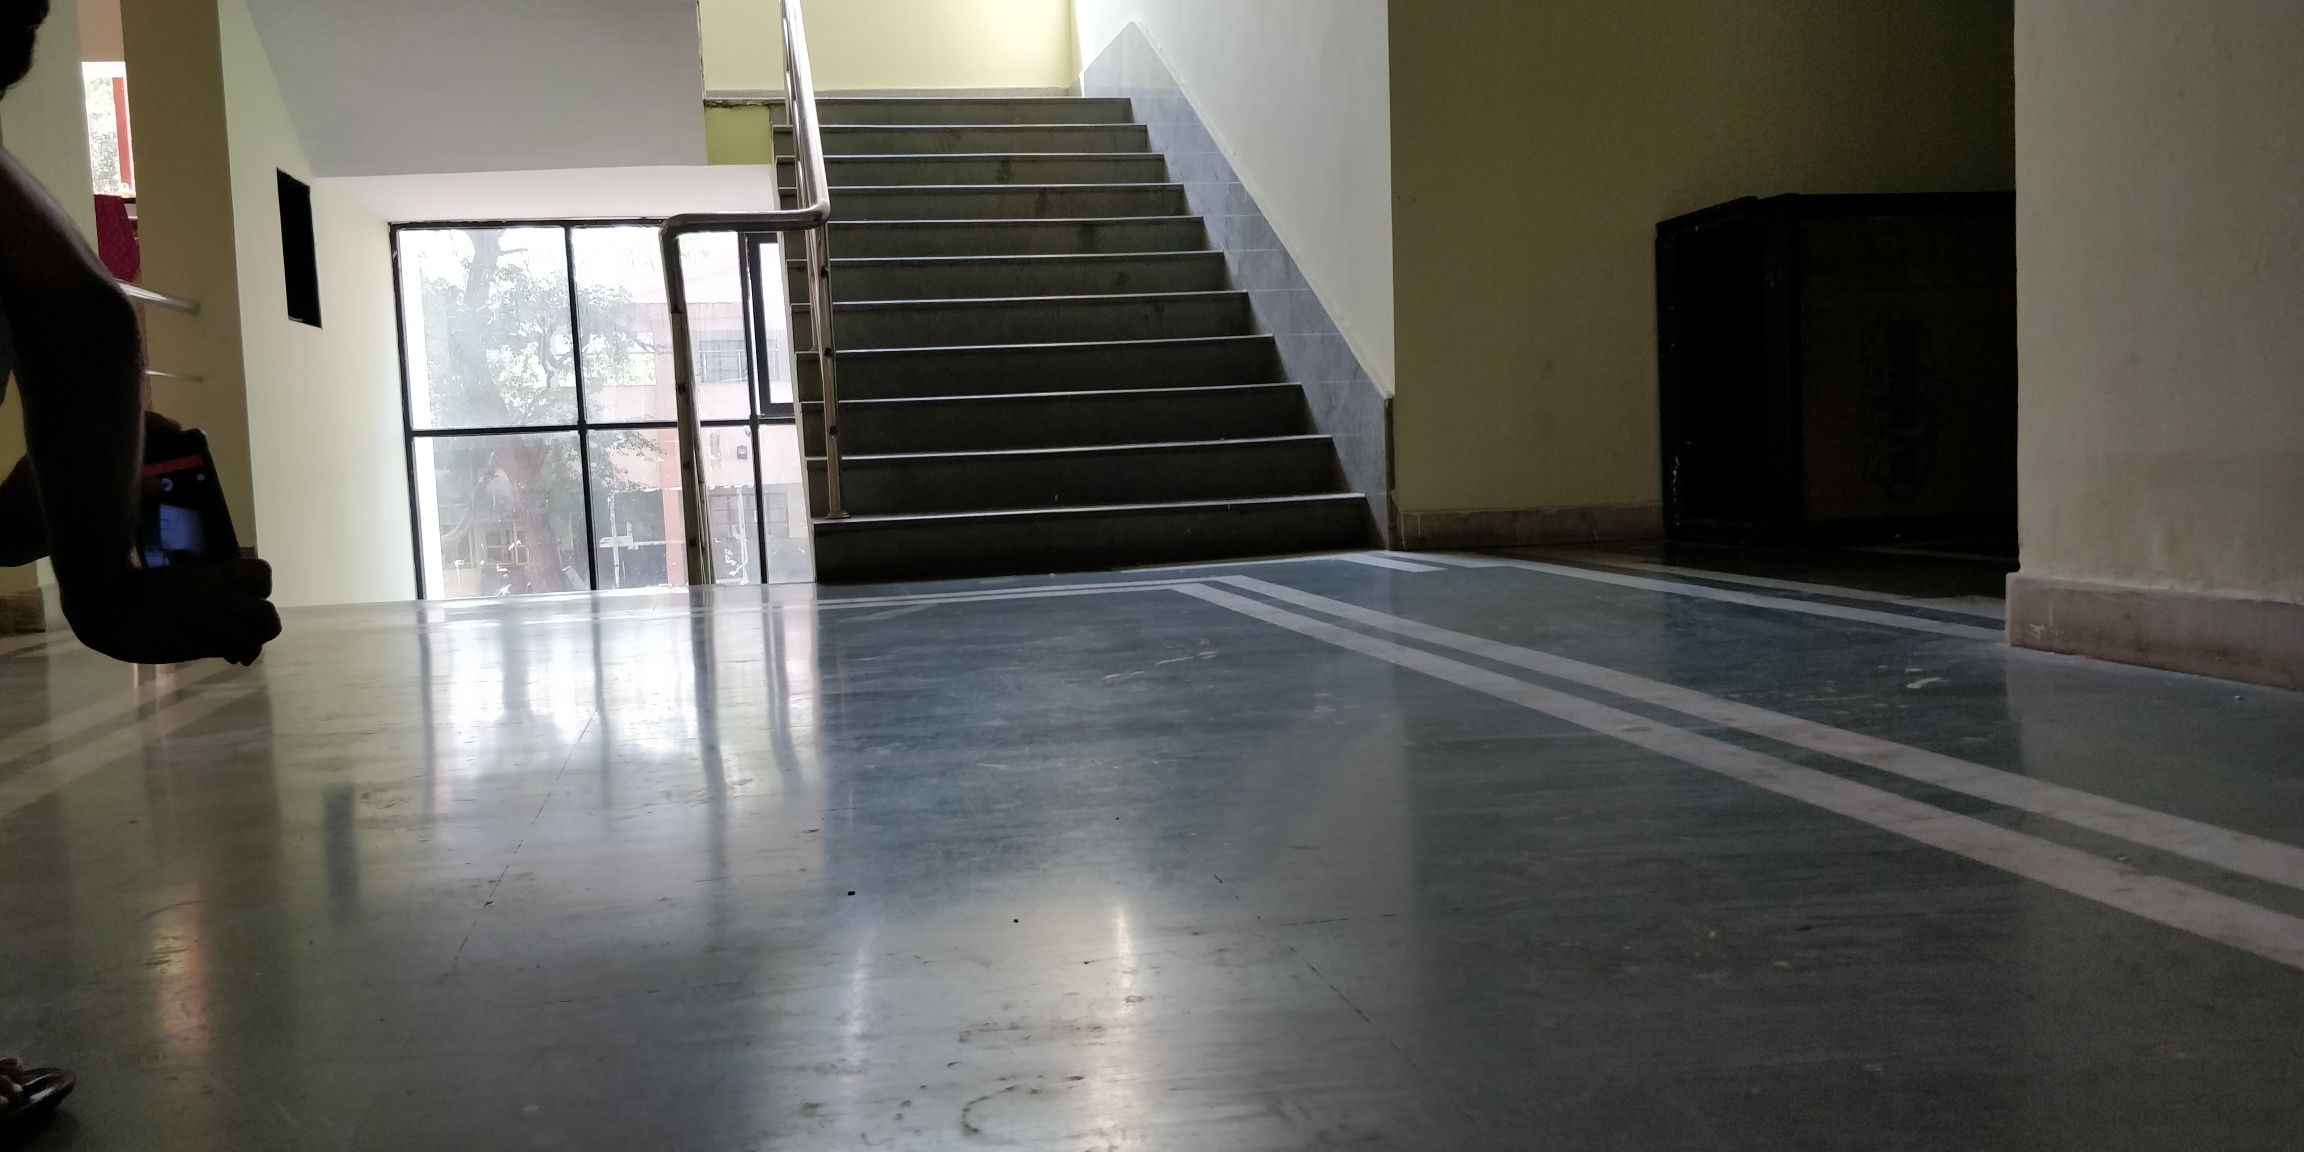stairs_up: (755, 82, 1383, 580)
